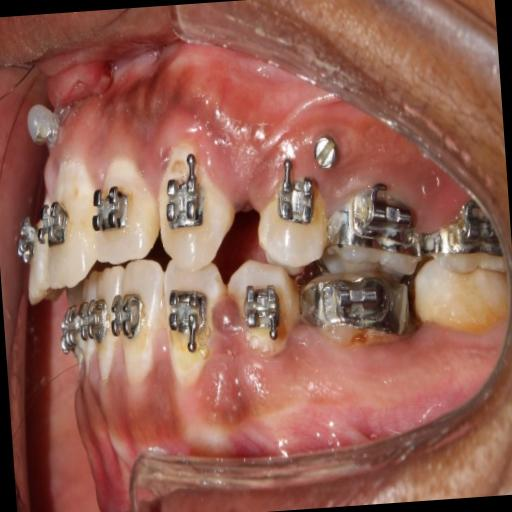correct_brace: (258, 160, 328, 272), (162, 172, 208, 237), (88, 184, 131, 231), (34, 194, 70, 250)
incorrect_brace: (92, 162, 162, 264), (274, 164, 316, 228)
